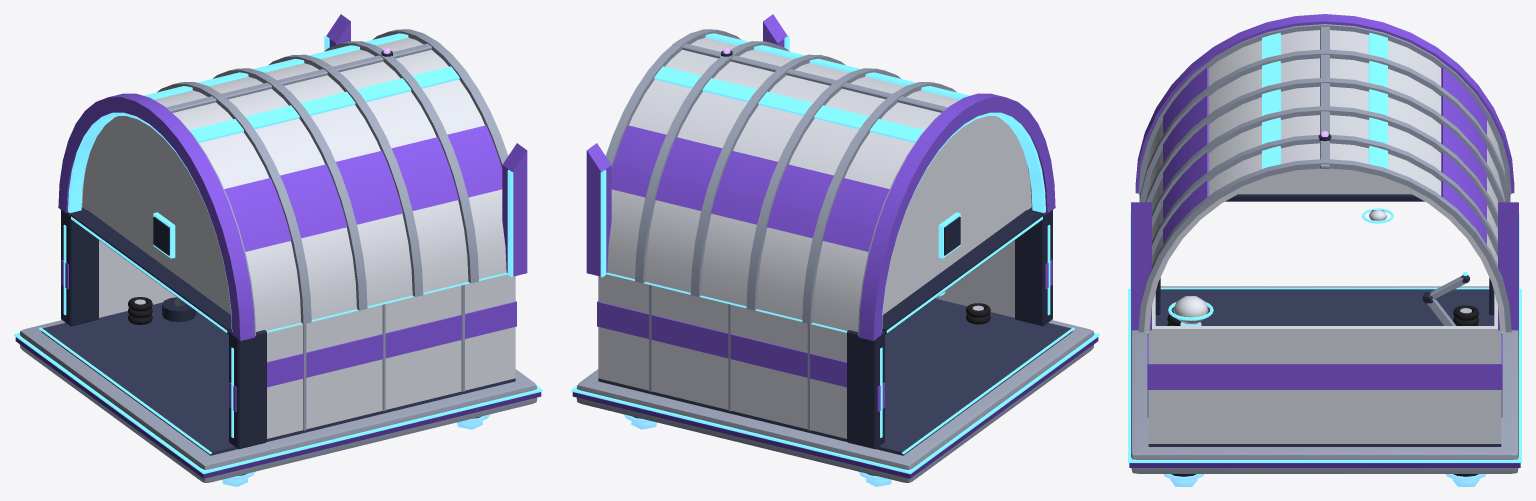
Rendered from pit-garage-space.glb.
The picture shows the model from 3 angles, left to right: view 1: azimuth 30°, elevation 25°; view 2: azimuth 150°, elevation 25°; view 3: azimuth 270°, elevation 25°; orthographic projection. The views are drawn at different scales.
Visible parts, largest first — view 1: RoofVault, WallLeft, RoofPanel_1, Floor, WallFront, FloorPlatform, FrontRing, WallBand, Pylon, RoofGlow_1, Pylon_1, RoofRib_2 (+16 smaller); view 2: RoofVault, WallRight, Floor, RoofPanel, WallFront, FloorPlatform, FrontRing, WallBand_1, Pylon_1, RoofGlow, Pylon, RoofRib_2 (+15 smaller); view 3: WallBack, RoofVault, FloorPlatform, Floor, WallBackBand, RoofRib_5, FrontRing, RoofPanel, RoofPanel_1, RoofRib_1, RoofRib_2, RoofRib_3 (+13 smaller).
Boxes of the visible parts, bbox=[...] form: RoofVault: bbox=[81, 37, 506, 331]; WallLeft: bbox=[267, 274, 509, 438]; RoofPanel_1: bbox=[224, 125, 502, 251]; Floor: bbox=[41, 302, 515, 455]; WallFront: bbox=[82, 116, 231, 314]; FloorPlatform: bbox=[19, 320, 537, 482]; FrontRing: bbox=[58, 93, 254, 340]; WallBand: bbox=[267, 301, 516, 387]; Pylon: bbox=[229, 330, 266, 449]; RoofGlow_1: bbox=[189, 66, 459, 142]; Pylon_1: bbox=[61, 207, 98, 326]; RoofRib_2: bbox=[213, 68, 367, 310]; RoofVault: bbox=[607, 37, 1032, 331]; WallRight: bbox=[604, 274, 846, 438]; Floor: bbox=[598, 298, 1072, 455]; RoofPanel: bbox=[611, 125, 889, 251]; WallFront: bbox=[882, 116, 1031, 314]; FloorPlatform: bbox=[576, 320, 1094, 482]; FrontRing: bbox=[859, 93, 1055, 340]; WallBand_1: bbox=[597, 301, 846, 387]; Pylon_1: bbox=[847, 330, 884, 449]; RoofGlow: bbox=[654, 66, 924, 142]; Pylon: bbox=[1015, 207, 1052, 326]; RoofRib_2: bbox=[746, 68, 900, 310]; WallBack: bbox=[1148, 326, 1501, 443]; RoofVault: bbox=[1144, 30, 1505, 331]; FloorPlatform: bbox=[1131, 286, 1518, 473]; Floor: bbox=[1148, 289, 1501, 446]; WallBackBand: bbox=[1148, 364, 1501, 389]; RoofRib_5: bbox=[1138, 159, 1511, 332]; FrontRing: bbox=[1135, 14, 1514, 193]; RoofPanel: bbox=[1441, 67, 1486, 244]; RoofPanel_1: bbox=[1163, 67, 1208, 244]; RoofRib_1: bbox=[1140, 49, 1509, 202]; RoofRib_2: bbox=[1145, 77, 1504, 202]; RoofRib_3: bbox=[1152, 106, 1497, 228].
Size of the model in its own units: 11.56 by 10.89 by 11.16.
